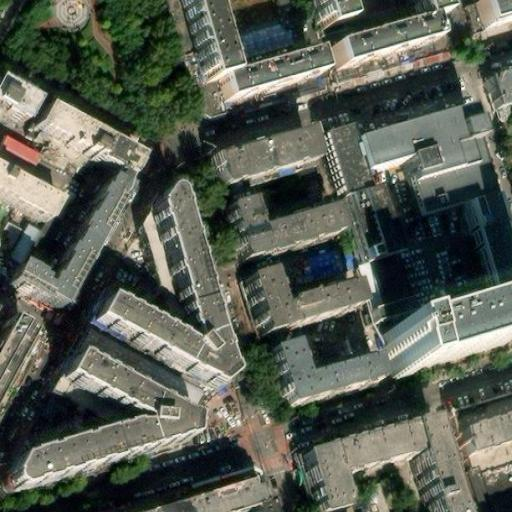building: (99, 203, 236, 401), (5, 367, 189, 503), (17, 173, 133, 309), (111, 222, 202, 363), (86, 334, 211, 419), (294, 428, 413, 512), (353, 109, 476, 186), (383, 304, 512, 376), (15, 391, 133, 469), (338, 181, 405, 304), (332, 0, 444, 70), (70, 362, 190, 427), (268, 342, 376, 408), (43, 108, 146, 177), (225, 196, 331, 259), (246, 271, 352, 330), (210, 127, 313, 185), (122, 474, 266, 512), (466, 208, 512, 319), (214, 67, 315, 113), (176, 0, 221, 95), (319, 110, 371, 191), (407, 430, 457, 512), (0, 74, 57, 128), (235, 15, 292, 55), (289, 243, 339, 280), (463, 415, 512, 451), (0, 128, 42, 166), (180, 493, 254, 512), (483, 58, 512, 104), (475, 481, 512, 512), (473, 0, 512, 15)
